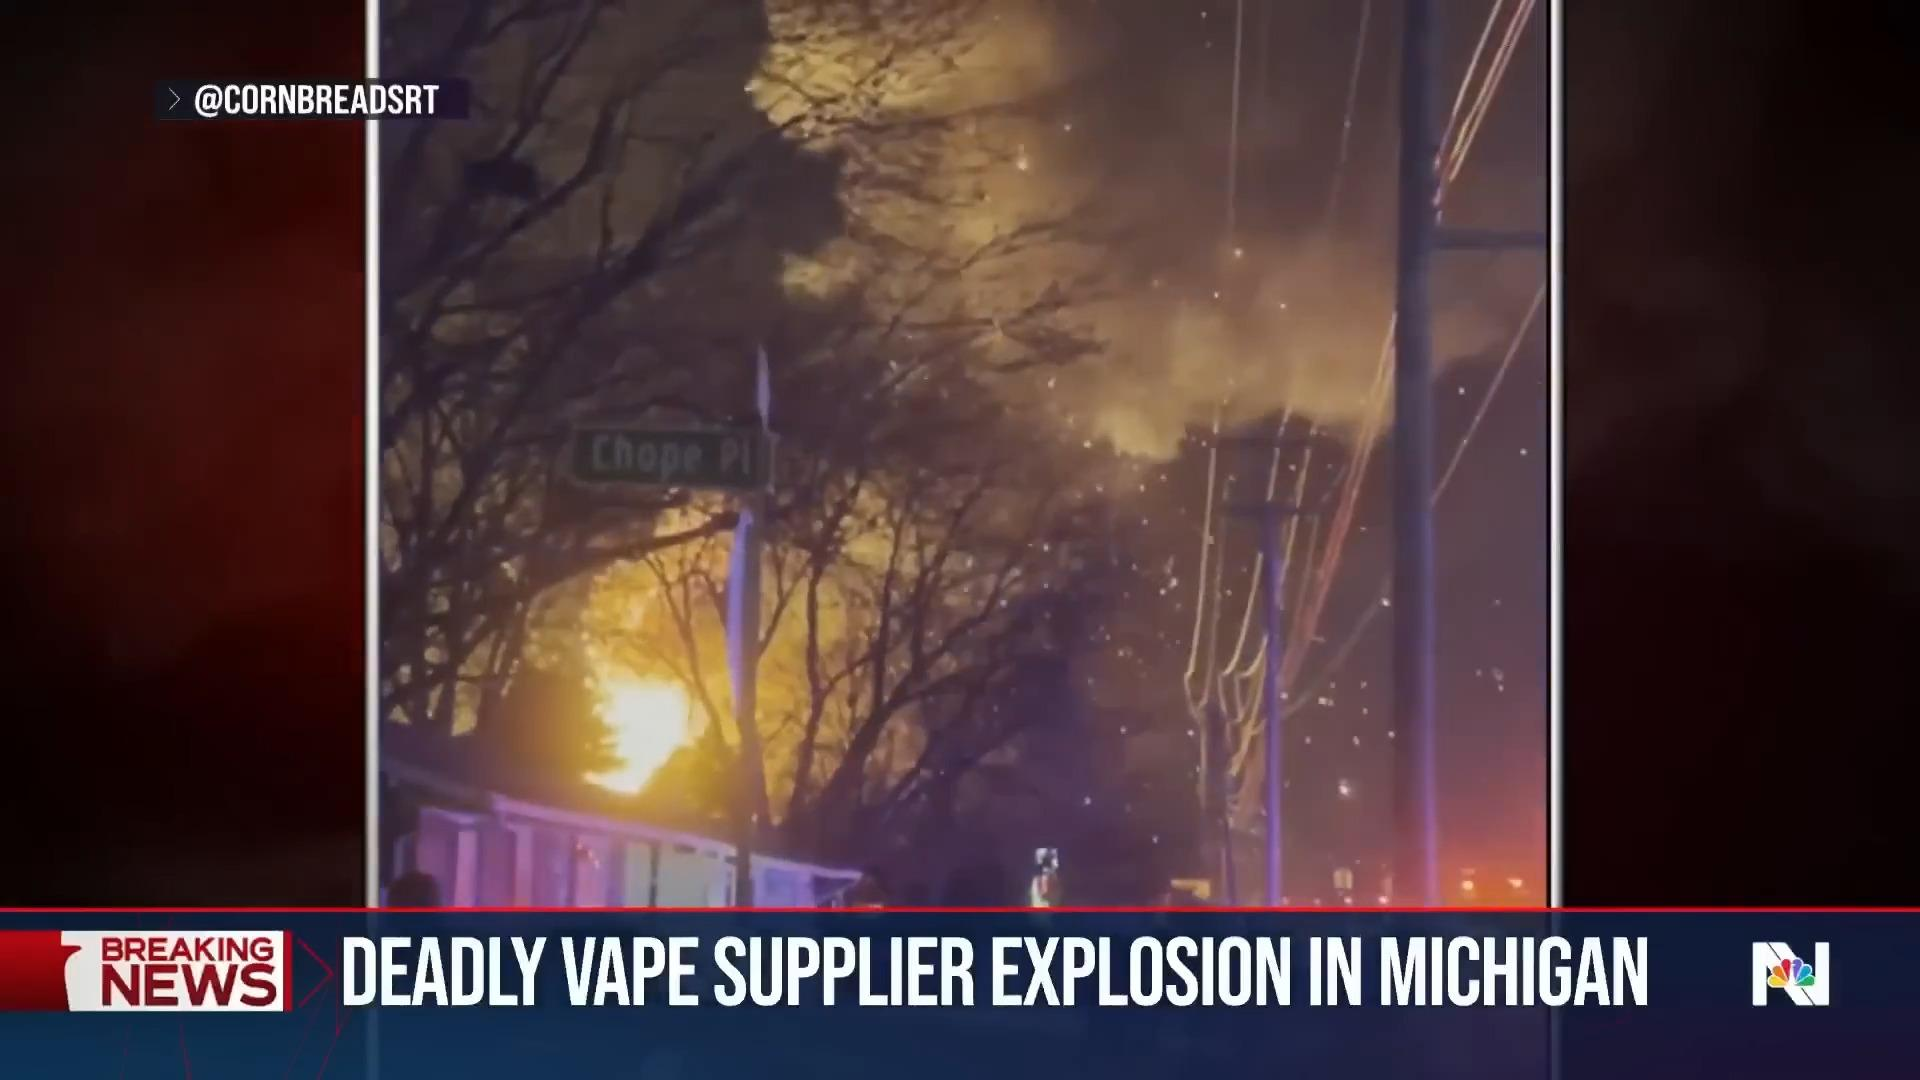fire: (512, 508, 828, 818)
